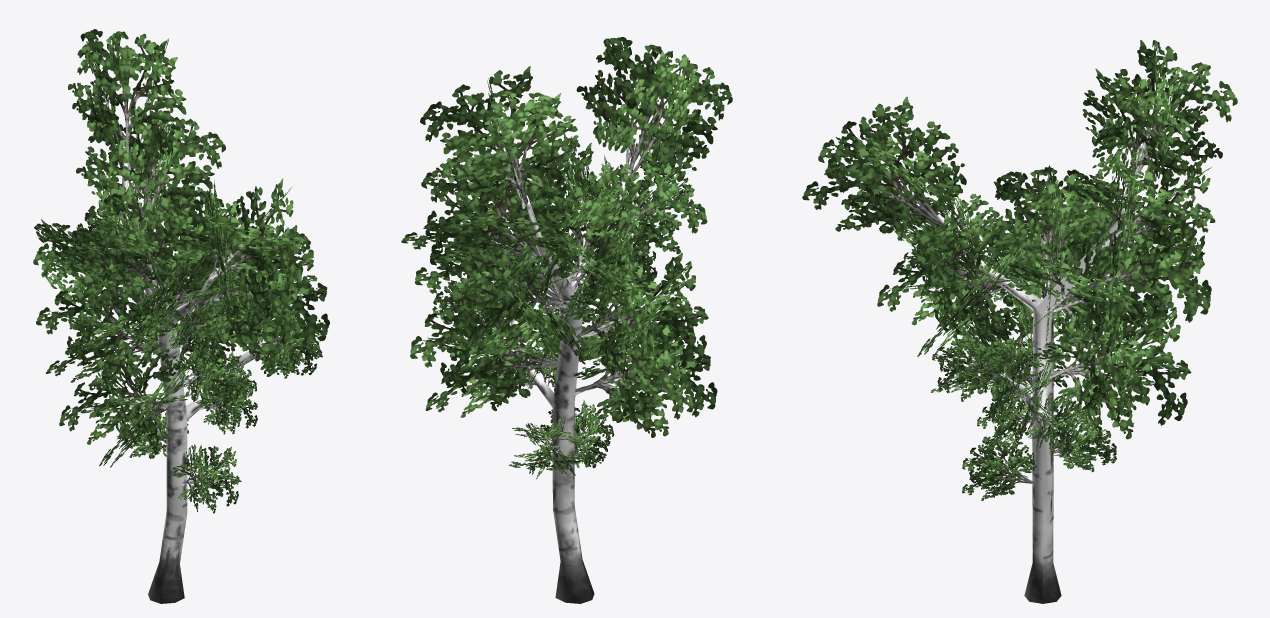
File: Birch.fbx
The picture shows the model from 3 angles, left to right: view 1: azimuth 30°, elevation 25°; view 2: azimuth 150°, elevation 25°; view 3: azimuth 270°, elevation 25°; orthographic projection. The views are drawn at different scales.
Visible parts, largest first — view 1: Lod0; view 2: Lod0; view 3: Lod0.
Part boxes in pixels (x1,y1,x2,y2): Lod0: (33, 29, 329, 603); Lod0: (401, 37, 732, 603); Lod0: (802, 40, 1237, 603).
Size of what is drawn, in the model's own units: 1412 by 2516 by 1935.
Materials: 2 (2 with a texture image).
